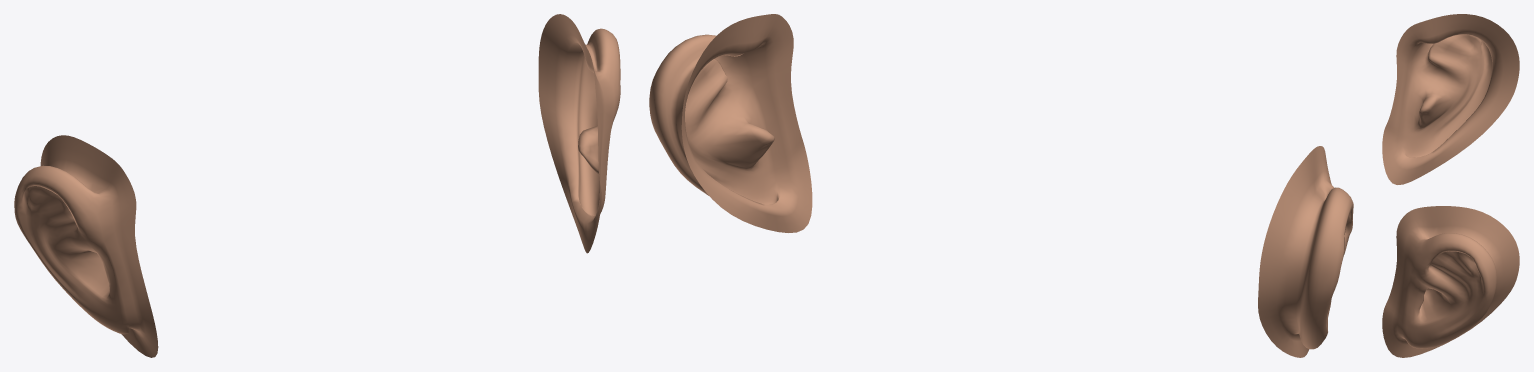
The model's file is human_male_model_human_ears.fbx.
3 renders of one model, left to right at view 1: azimuth 30°, elevation 25°; view 2: azimuth 150°, elevation 25°; view 3: azimuth 270°, elevation 25°, orthographic. The views are drawn at different scales.
Visible parts, largest first — view 1: EAR1, EAR1.001; view 2: EAR1.001, EAR1; view 3: EAR1, EAR1.001.
Part boxes in pixels (x1=…): EAR1: x1=14, y1=135, x2=158, y2=357; EAR1.001: x1=538, y1=14, x2=620, y2=253; EAR1.001: x1=649, y1=14, x2=812, y2=232; EAR1: x1=1258, y1=146, x2=1353, y2=357; EAR1: x1=1382, y1=14, x2=1519, y2=184; EAR1.001: x1=1382, y1=206, x2=1519, y2=357.
Size of the model in its own units: 18.85 by 6.02 by 4.69.
